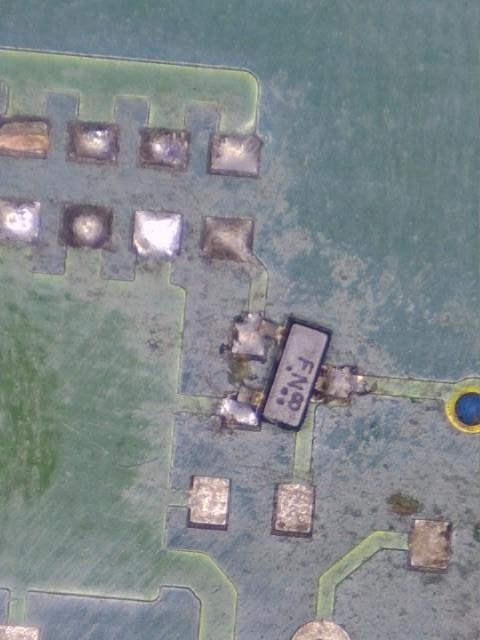pcb_defect: (224, 319, 350, 434)
